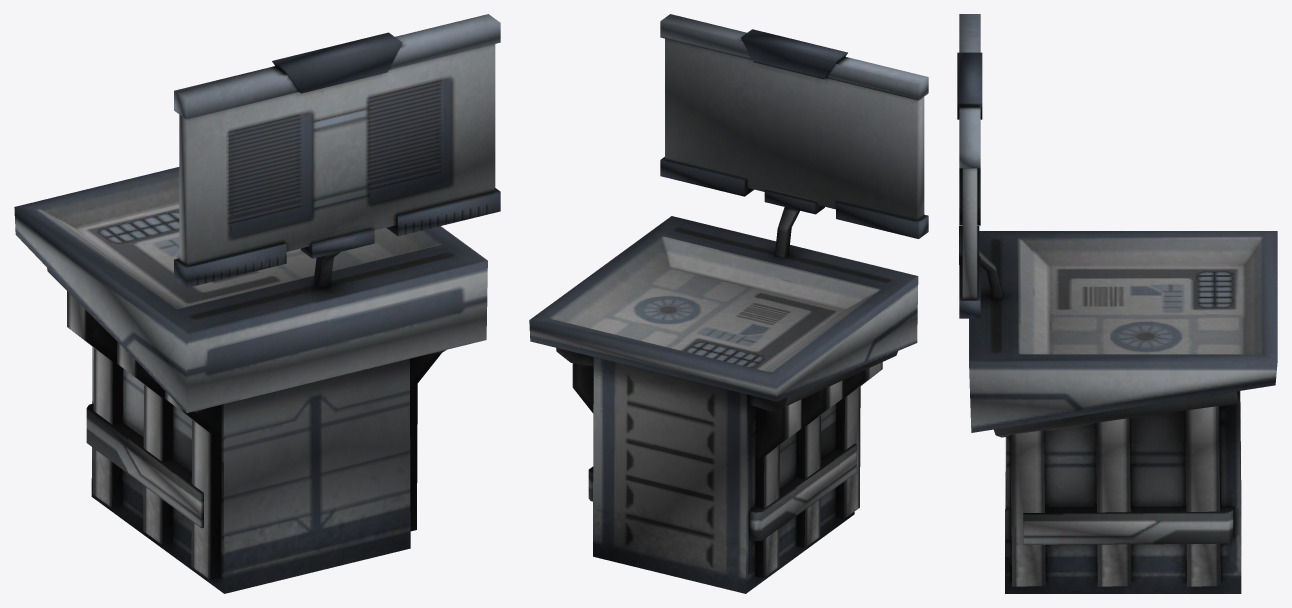
File: nf_terminal2.glb
3 views of the same model, side by side, from view 1: azimuth 30°, elevation 25°; view 2: azimuth 150°, elevation 25°; view 3: azimuth 270°, elevation 25° (orthographic). The views are drawn at different scales.
Visible parts, largest first — view 1: objloRes_Kiosk002; view 2: objloRes_Kiosk002; view 3: objloRes_Kiosk002.
Boxes of the visible parts, x1,y1,x2,y2 form: objloRes_Kiosk002: (14, 14, 500, 593); objloRes_Kiosk002: (529, 14, 928, 593); objloRes_Kiosk002: (957, 14, 1277, 593).
Size of the model in its own units: 12.16 by 19.72 by 12.04.
Materials: 1 (1 with a texture image).
